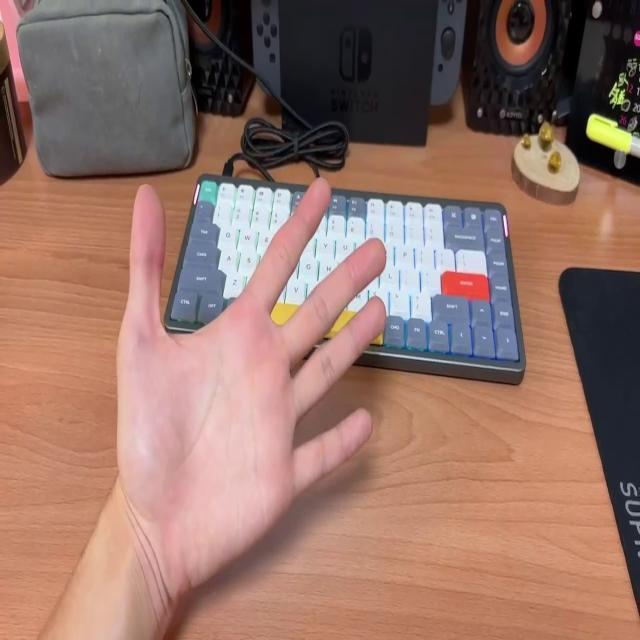keyboard-with-hands: (164, 175, 521, 368)
